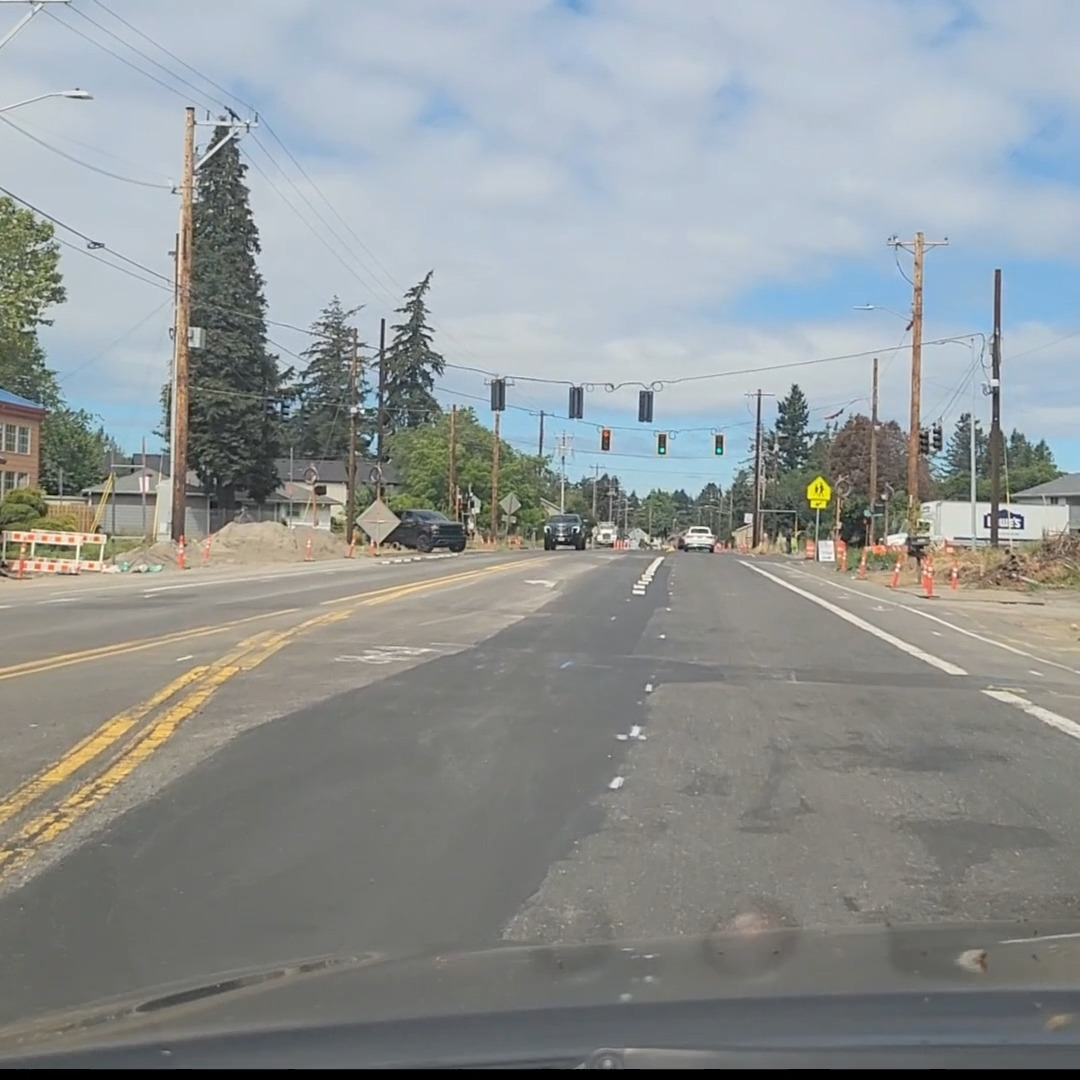car: (384, 509, 468, 552), (541, 513, 587, 550), (677, 526, 717, 552)
crosswalk-sign: (806, 476, 831, 509)
delineator: (921, 564, 934, 597), (857, 545, 869, 578), (17, 544, 28, 579), (176, 535, 186, 570), (890, 556, 901, 587), (303, 536, 314, 561), (201, 537, 211, 564), (949, 563, 958, 590), (346, 538, 357, 558), (369, 538, 377, 556), (748, 540, 756, 555), (178, 534, 185, 549)
